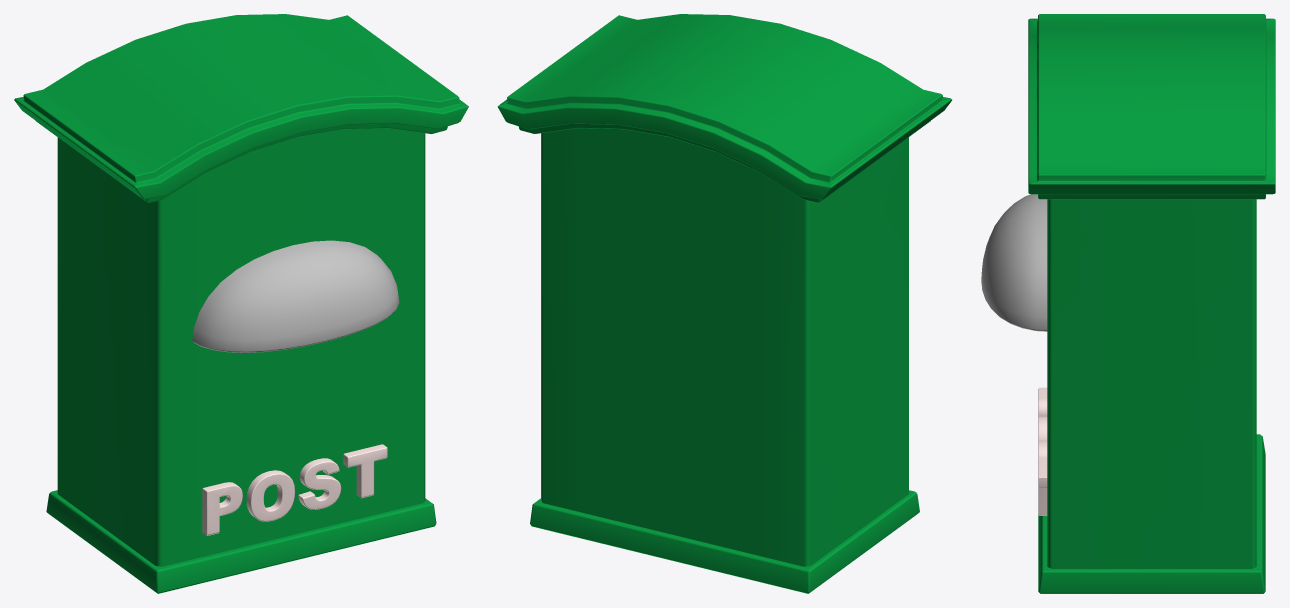
Rendered from City_4_Mailbox_3.glb.
3 renders of one model, left to right at view 1: azimuth 30°, elevation 25°; view 2: azimuth 150°, elevation 25°; view 3: azimuth 270°, elevation 25°, orthographic.
Visible parts, largest first — view 1: City_4_Mailbox_3; view 2: City_4_Mailbox_3; view 3: City_4_Mailbox_3.
Part boxes in pixels (box(x1,y1,x2,y2)): City_4_Mailbox_3: box(14, 14, 468, 593); City_4_Mailbox_3: box(497, 14, 951, 593); City_4_Mailbox_3: box(981, 14, 1275, 593).
Size of the model in its own units: 0.7075 by 0.9215 by 0.5316.
Materials: 1 (1 with a texture image).
